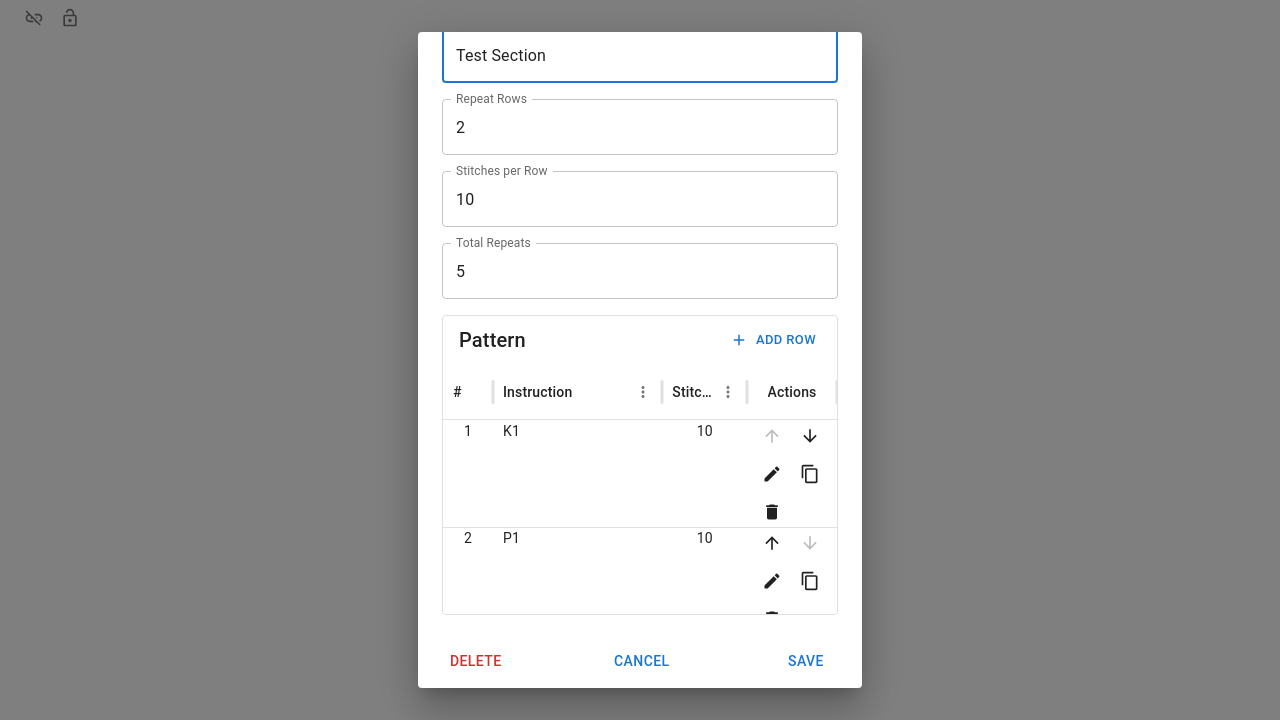
Test case: SectionDialog › Delete Functionality › shows section name in deletion confirmation message
(page scrolled)
Click the button "Delete" at (476, 661), box top-left (442, 643), bottom-right (510, 680)
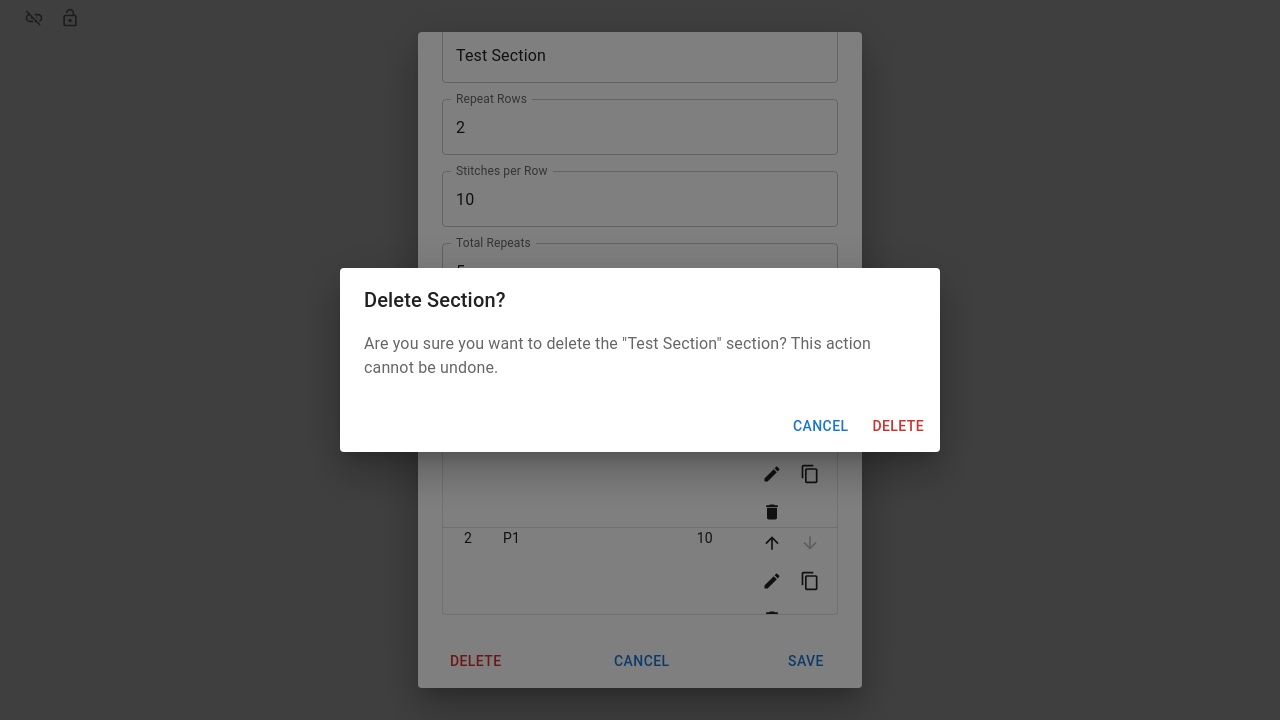
Expected: the text "Test Section" is shown, top-left (364, 334), bottom-right (871, 377)
